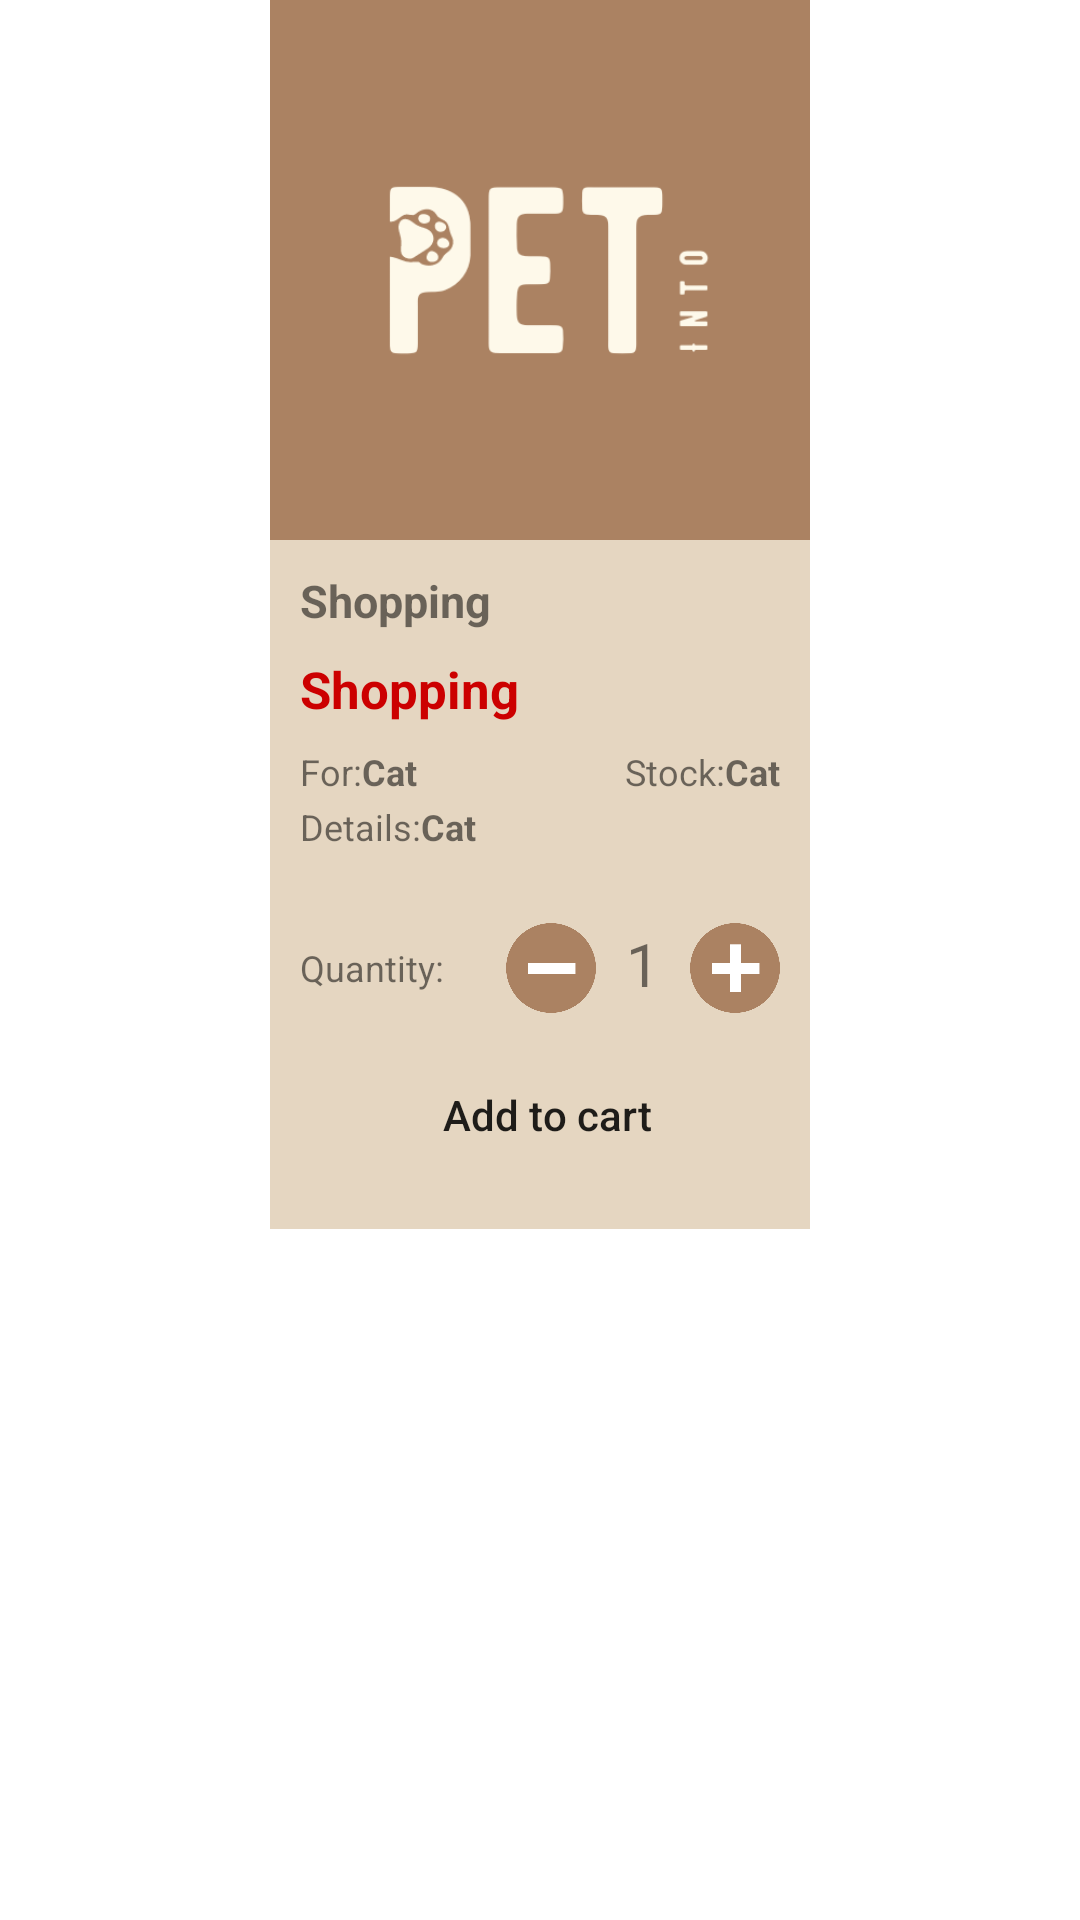

Named icons in this screenshot (1080px×1920px) and their centers, (x,y):
minus: (551,968)
plus: (735,968)
